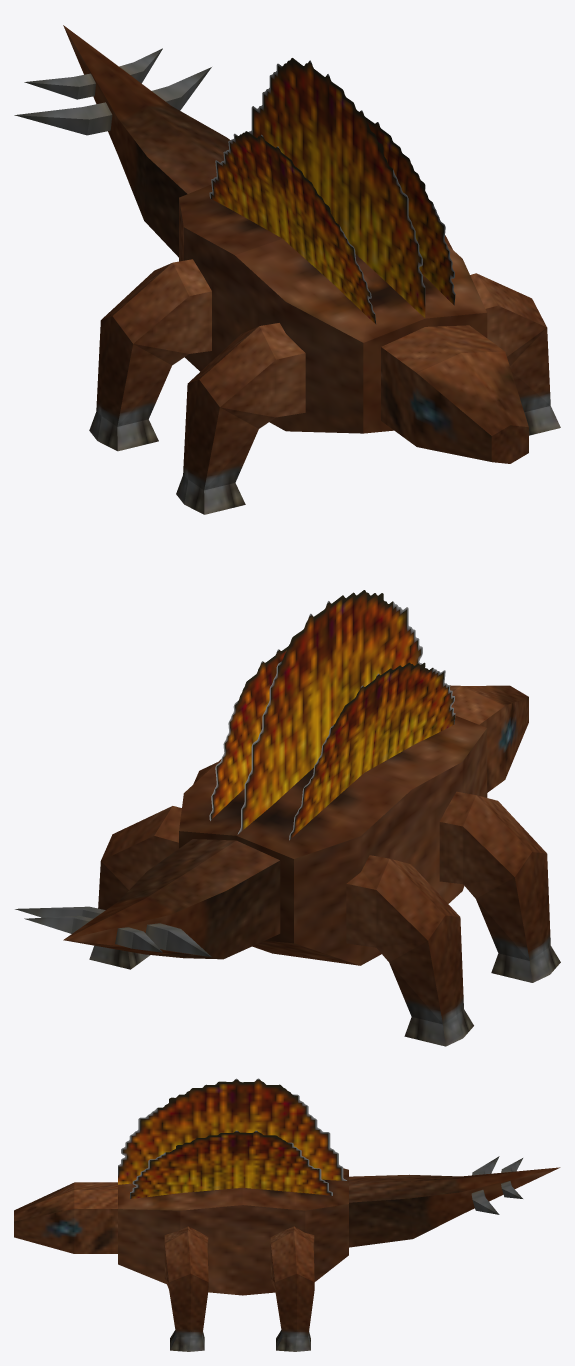
The model's file is makaalpha.obj.
3 views of the same model, one above another, from view 1: azimuth 30°, elevation 25°; view 2: azimuth 150°, elevation 25°; view 3: azimuth 270°, elevation 25° (orthographic). The views are drawn at different scales.
Parts seen in each view (by area): view 1: Body, Tail, Head, FrontRightLeg, BackRightLeg, FrontLeftLeg; view 2: Body, Tail, BackRightLeg, FrontRightLeg, BackLeftLeg, Head; view 3: Body, Tail, Head, FrontLeftLeg, BackLeftLeg.
Part boxes in pixels (box(x1,y1,x2,y2)): Body: box(179, 58, 487, 433); Tail: box(14, 25, 230, 257); Head: box(381, 325, 528, 463); FrontRightLeg: box(176, 323, 305, 514); BackRightLeg: box(89, 259, 211, 451); FrontLeftLeg: box(470, 273, 560, 435); Body: box(179, 590, 487, 965); Tail: box(15, 839, 280, 959); BackRightLeg: box(346, 855, 473, 1046); FrontRightLeg: box(439, 791, 560, 982); BackLeftLeg: box(89, 806, 181, 969); Head: box(450, 685, 528, 792); Body: box(118, 1078, 348, 1295); Tail: box(349, 1156, 560, 1247); Head: box(14, 1182, 117, 1253); FrontLeftLeg: box(164, 1226, 208, 1351); BackLeftLeg: box(270, 1226, 314, 1351).
Bounding box in the file's own units: 4.97 × 4.72 × 10.52.
